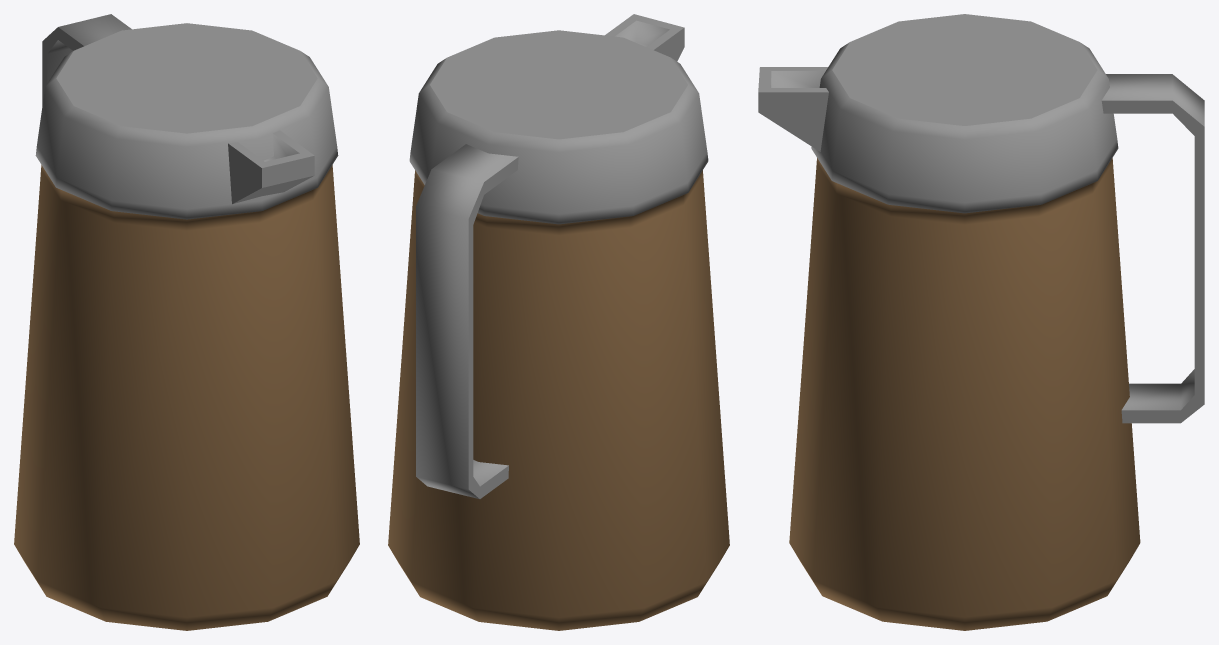
The model's file is WaterPot.glb.
3 views of the same model, side by side, from view 1: azimuth 30°, elevation 25°; view 2: azimuth 150°, elevation 25°; view 3: azimuth 270°, elevation 25° (orthographic). The views are drawn at different scales.
Parts seen in each view (by area): view 1: Cube.001; view 2: Cube.001; view 3: Cube.001.
Boxes of the visible parts, x1,y1,x2,y2 form: Cube.001: (14, 14, 359, 630); Cube.001: (388, 14, 729, 630); Cube.001: (758, 14, 1204, 630).
Size of what is drawn, in the model's own units: 0.64 by 0.9881 by 0.8139.
